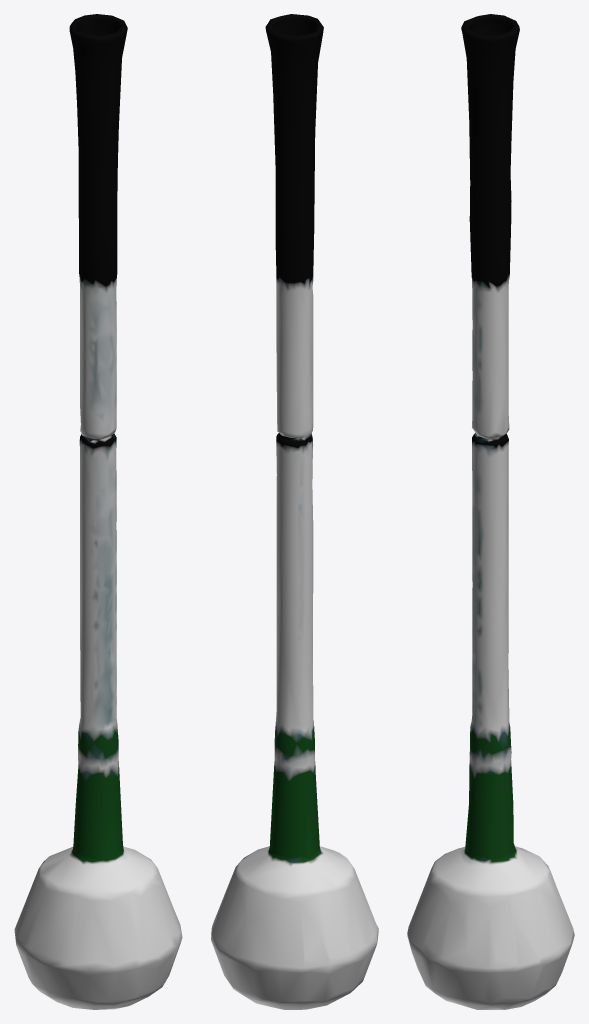
File: gen3d-golf-lod0.glb
The picture shows the model from 3 angles, left to right: view 1: azimuth 30°, elevation 25°; view 2: azimuth 150°, elevation 25°; view 3: azimuth 270°, elevation 25°; orthographic projection.
Visible parts, largest first — view 1: part_0; view 2: part_0; view 3: part_0.
Part boxes in pixels (x1,y1,x2,y2): part_0: [14, 14, 182, 1009]; part_0: [211, 14, 378, 1009]; part_0: [407, 14, 574, 1009].
Size of the model in its own units: 0.1575 by 1 by 0.1574.
